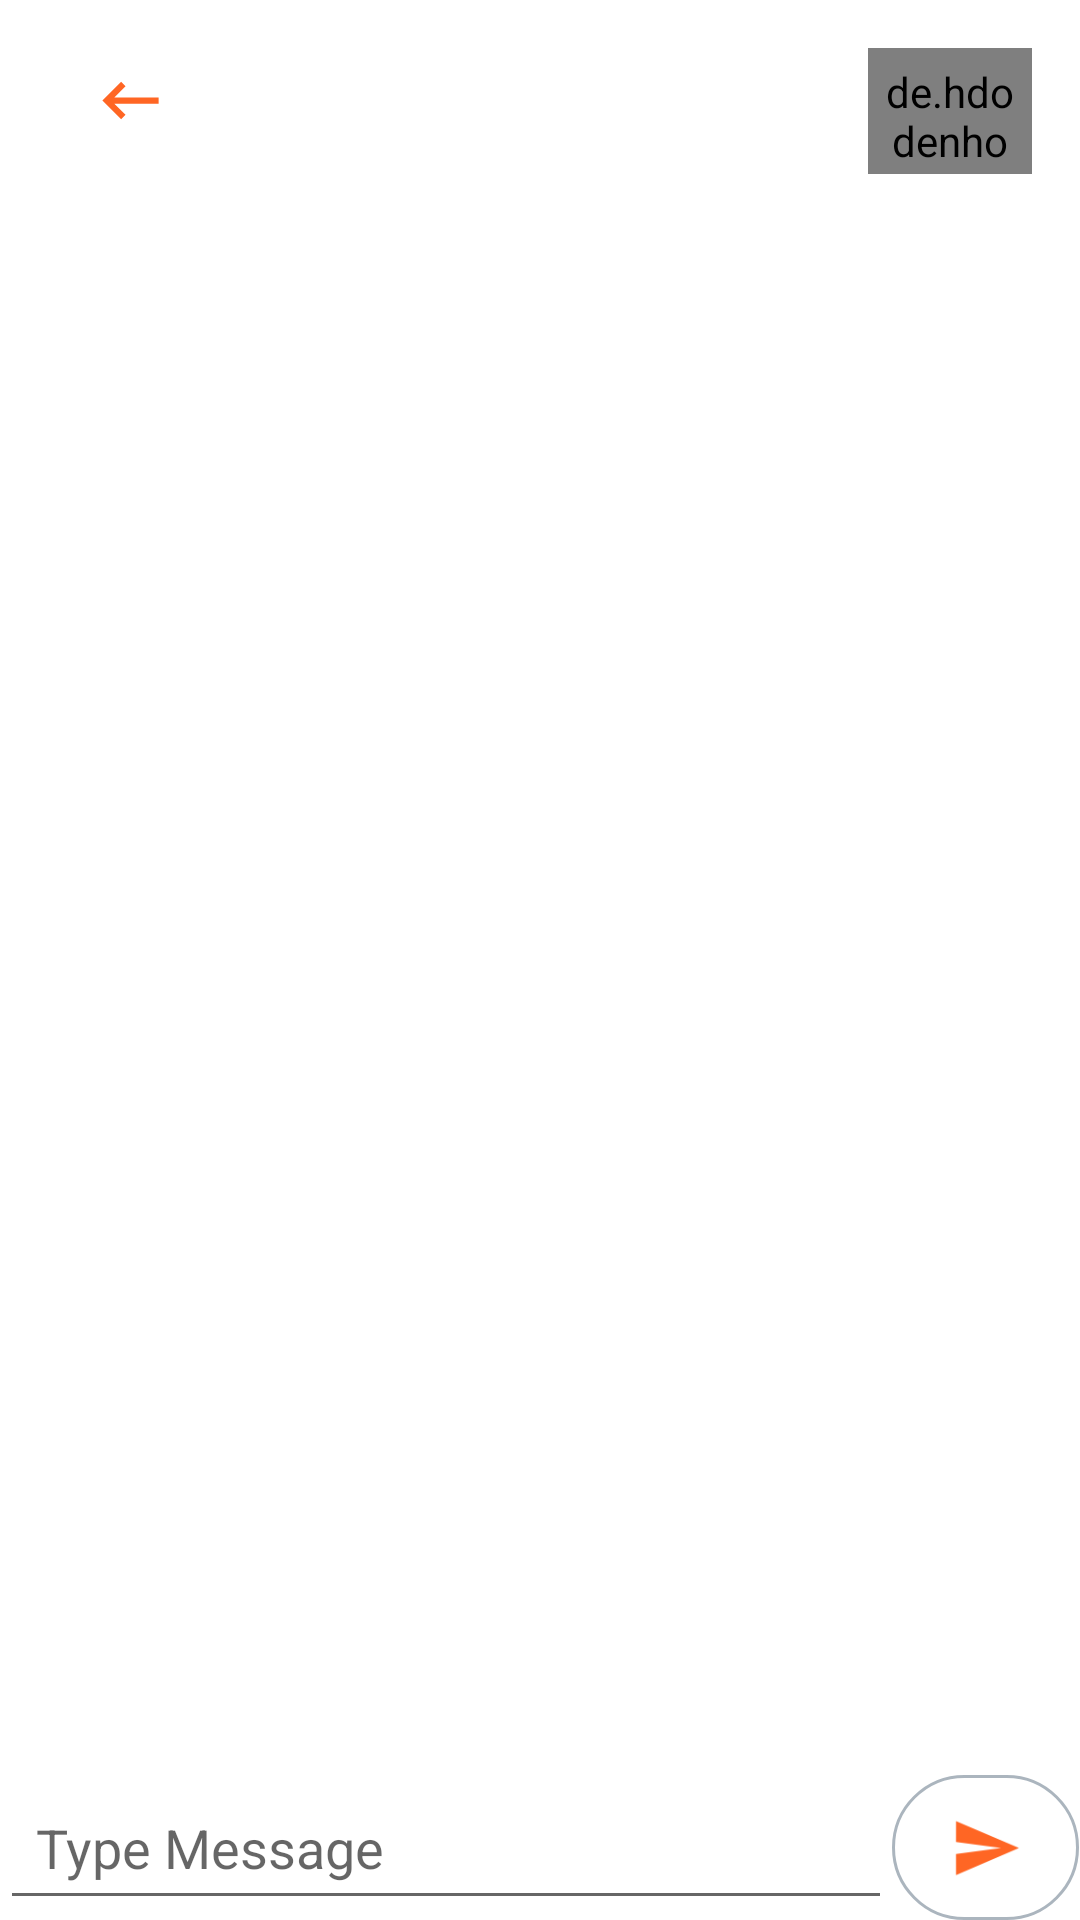

Icon click points for this 1080 x 1920 phone screenshot, format point (x, y):
back: point (130, 100)
send: point (985, 1847)
